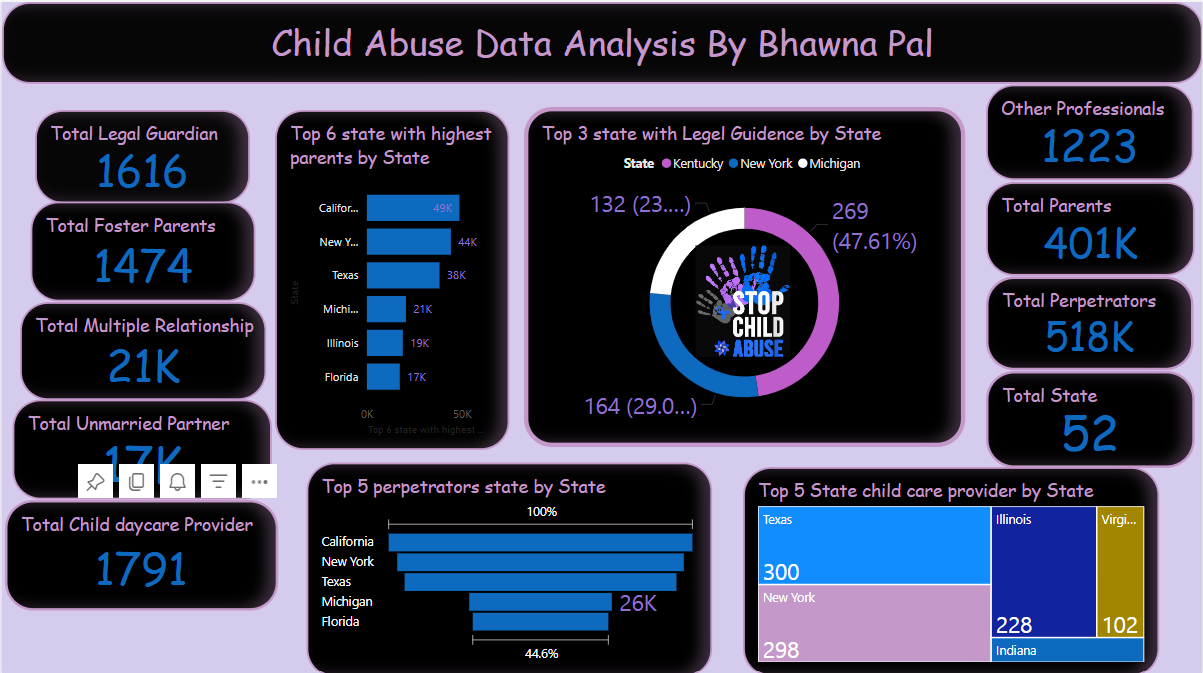

The page's visual inventory and layout, read from the dashboard file:
{"tool":"powerbi","page":{"name":"Page 1","canvas":[1280,720],"ordinal":0},"visuals":[{"type":"columnChart","fields":{"Category":["Child Abuse - Sheet1.State"],"Y":["measures_table.top 6 state with highest parents"]},"box":[777.7,213.8,472.5,189.7],"z":0},{"type":"donutChart","fields":{"Category":["Child Abuse - Sheet1.State"],"Y":["measures_table.Top 3 state with Legel Guidence"]},"box":[613.9,463.8,301.8,238],"z":1},{"type":"funnel","fields":{"Y":["measures_table.Top 5 perpetrators state"],"Category":["Child Abuse - Sheet1.State"]},"box":[934.6,439.7,315.5,262.1],"z":2},{"type":"treemap","fields":{"Group":["Child Abuse - Sheet1.State"],"Values":["measures_table.Top 5 State child care provider"]},"box":[0,482.8,353.5,238],"z":3},{"type":"image","box":[217.3,213.8,301.8,238],"z":4},{"type":"card","fields":{"Values":["measures_table.total_perpetrator_"]},"box":[367.3,601.8,203.5,108.6],"z":5},{"type":"card","fields":{"Values":["measures_table.Total unnmarried parents"]},"box":[19,360.4,187.9,103.5],"z":6},{"type":"card","fields":{"Values":["measures_table.total state"]},"box":[538,213.8,210.4,103.5],"z":7},{"type":"card","fields":{"Values":["measures_table.total parents"]},"box":[367.3,482.8,203.5,100],"z":8},{"type":"card","fields":{"Values":["measures_table.total legel guidence"]},"box":[536.3,336.2,212.1,103.5],"z":9},{"type":"card","fields":{"Values":["measures_table.total childcare provider"]},"box":[934.6,93.1,205.2,101.7],"z":10},{"type":"card","fields":{"Values":["measures_table.total foster parents"]},"box":[20.7,129.3,186.2,110.4],"z":11},{"type":"card","fields":{"Values":["measures_table.total multiple relationship"]},"box":[19,248.3,187.9,100],"z":12},{"type":"card","fields":{"Values":["Sum(Child Abuse - Sheet1.Other Professional)"]},"box":[625.9,93.1,210.4,101.7],"z":13}]}

Visuals, with their boxes on the page's 1280x720 design canvas (x1, y1, x2, y2). These are canvas units, not pixel positions in the 1203x673 screenshot, which may show the page scaled, cropped or inside an application window:
columnChart - Child Abuse - Sheet1.State x measures_table.top 6 state with highest parents: 778,214,1250,404
donutChart - Child Abuse - Sheet1.State x measures_table.Top 3 state with Legel Guidence: 614,464,916,702
funnel - measures_table.Top 5 perpetrators state x Child Abuse - Sheet1.State: 935,440,1250,702
treemap - Child Abuse - Sheet1.State x measures_table.Top 5 State child care provider: 0,483,354,721
image: 217,214,519,452
card - measures_table.total_perpetrator_: 367,602,571,710
card - measures_table.Total unnmarried parents: 19,360,207,464
card - measures_table.total state: 538,214,748,317
card - measures_table.total parents: 367,483,571,583
card - measures_table.total legel guidence: 536,336,748,440
card - measures_table.total childcare provider: 935,93,1140,195
card - measures_table.total foster parents: 21,129,207,240
card - measures_table.total multiple relationship: 19,248,207,348
card - Sum(Child Abuse - Sheet1.Other Professional): 626,93,836,195
